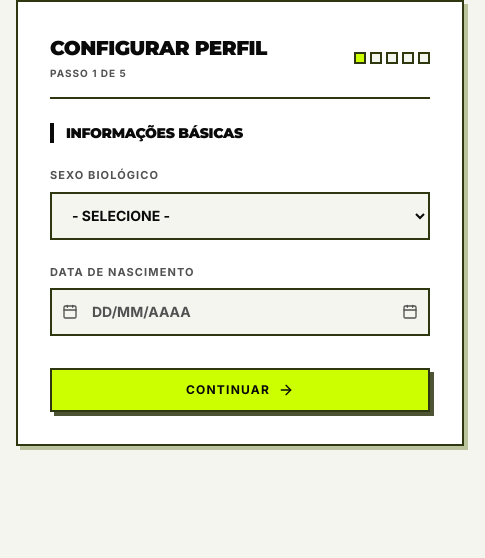
it: OnboardingFlow Component (PC-34 / TST-011) › deve avançar para o passo 2 ao preencher dados válidos no passo 1
Select "MASCULINO" in the dropdown. click: coordinates (240, 216)
box: [50,192,430,240]
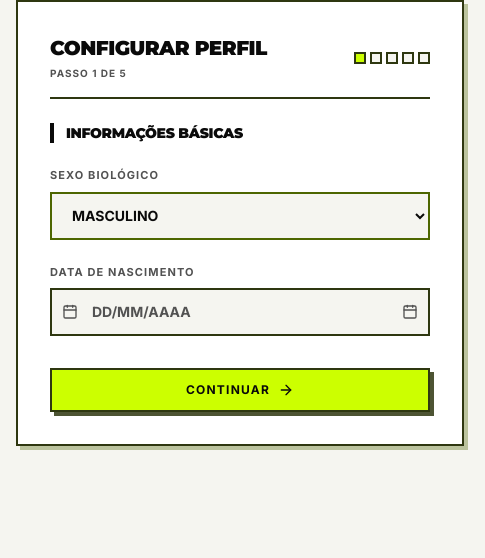
Type "15/05/1995" into the field with placeholder "DD/MM/AAAA". click: coordinates (240, 312)
box: [50,288,430,336]
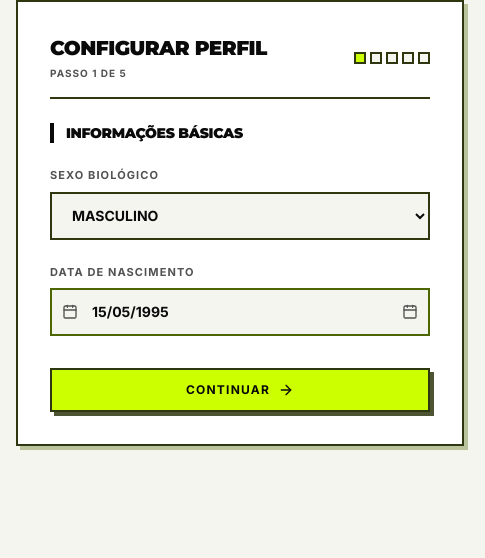
Click the button "CONTINUAR". click: coordinates (240, 390)
box: [50,368,430,412]
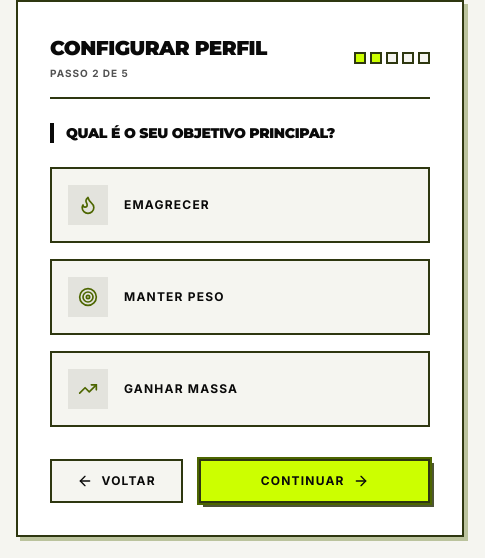
Now the text "PASSO 2 DE 5" is shown, box [50,67,129,79]
Now the heading "QUAL É O SEU OBJETIVO PRINCIPAL?" is shown, box [50,123,430,143]
